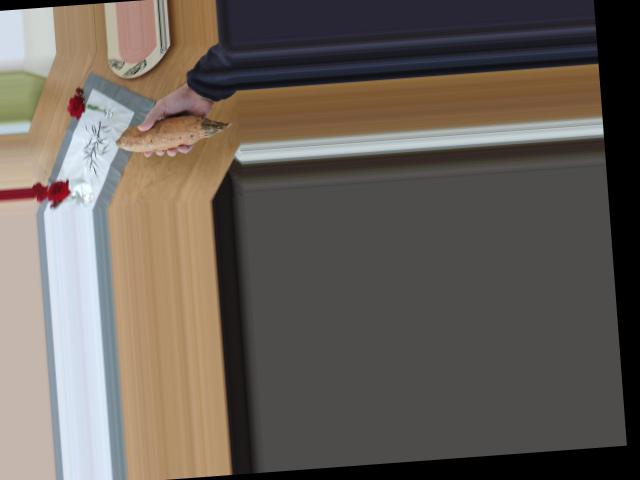sweet_potato: (110, 103, 223, 158)
